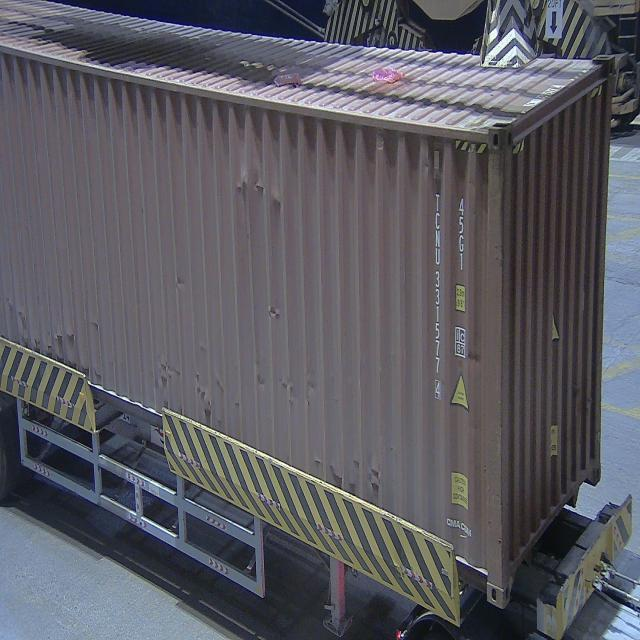dent: (146, 347, 333, 429), (6, 289, 120, 359), (315, 445, 403, 499), (233, 171, 298, 217)
